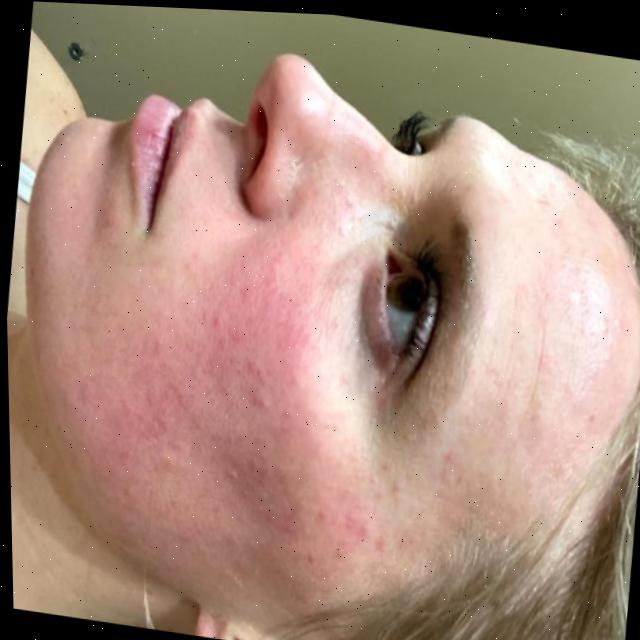Rosacea: (83, 209, 377, 569)
